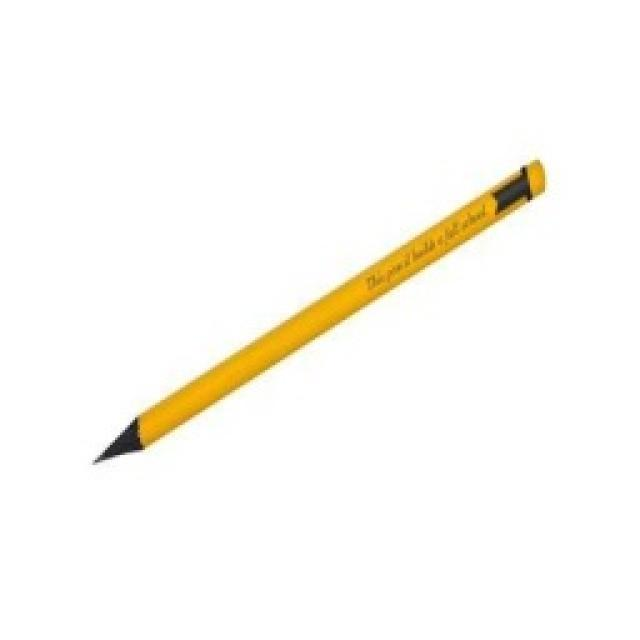pencil: (88, 152, 550, 468)
